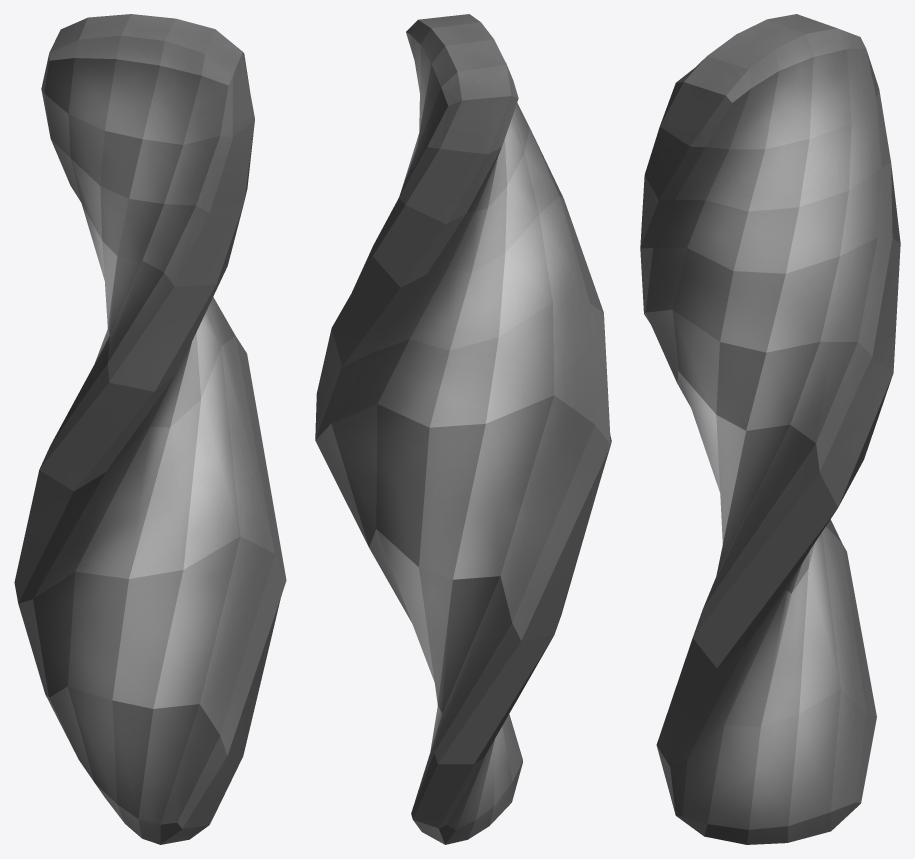
The model's file is trapeze.fbx.
3 views of the same model, side by side, from view 1: azimuth 30°, elevation 25°; view 2: azimuth 150°, elevation 25°; view 3: azimuth 270°, elevation 25° (orthographic).
Visible parts, largest first — view 1: trapeze; view 2: trapeze; view 3: trapeze.
Boxes of the visible parts, x1,y1,x2,y2 form: trapeze: (14, 14, 286, 844); trapeze: (315, 14, 611, 844); trapeze: (640, 14, 900, 844).
Bounding box in the file's own units: 27.38 × 83.19 × 24.28.
